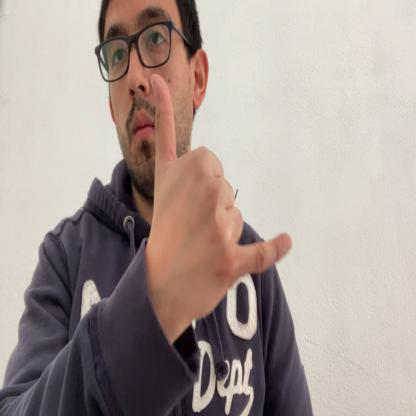Y: (150, 73, 293, 315)
